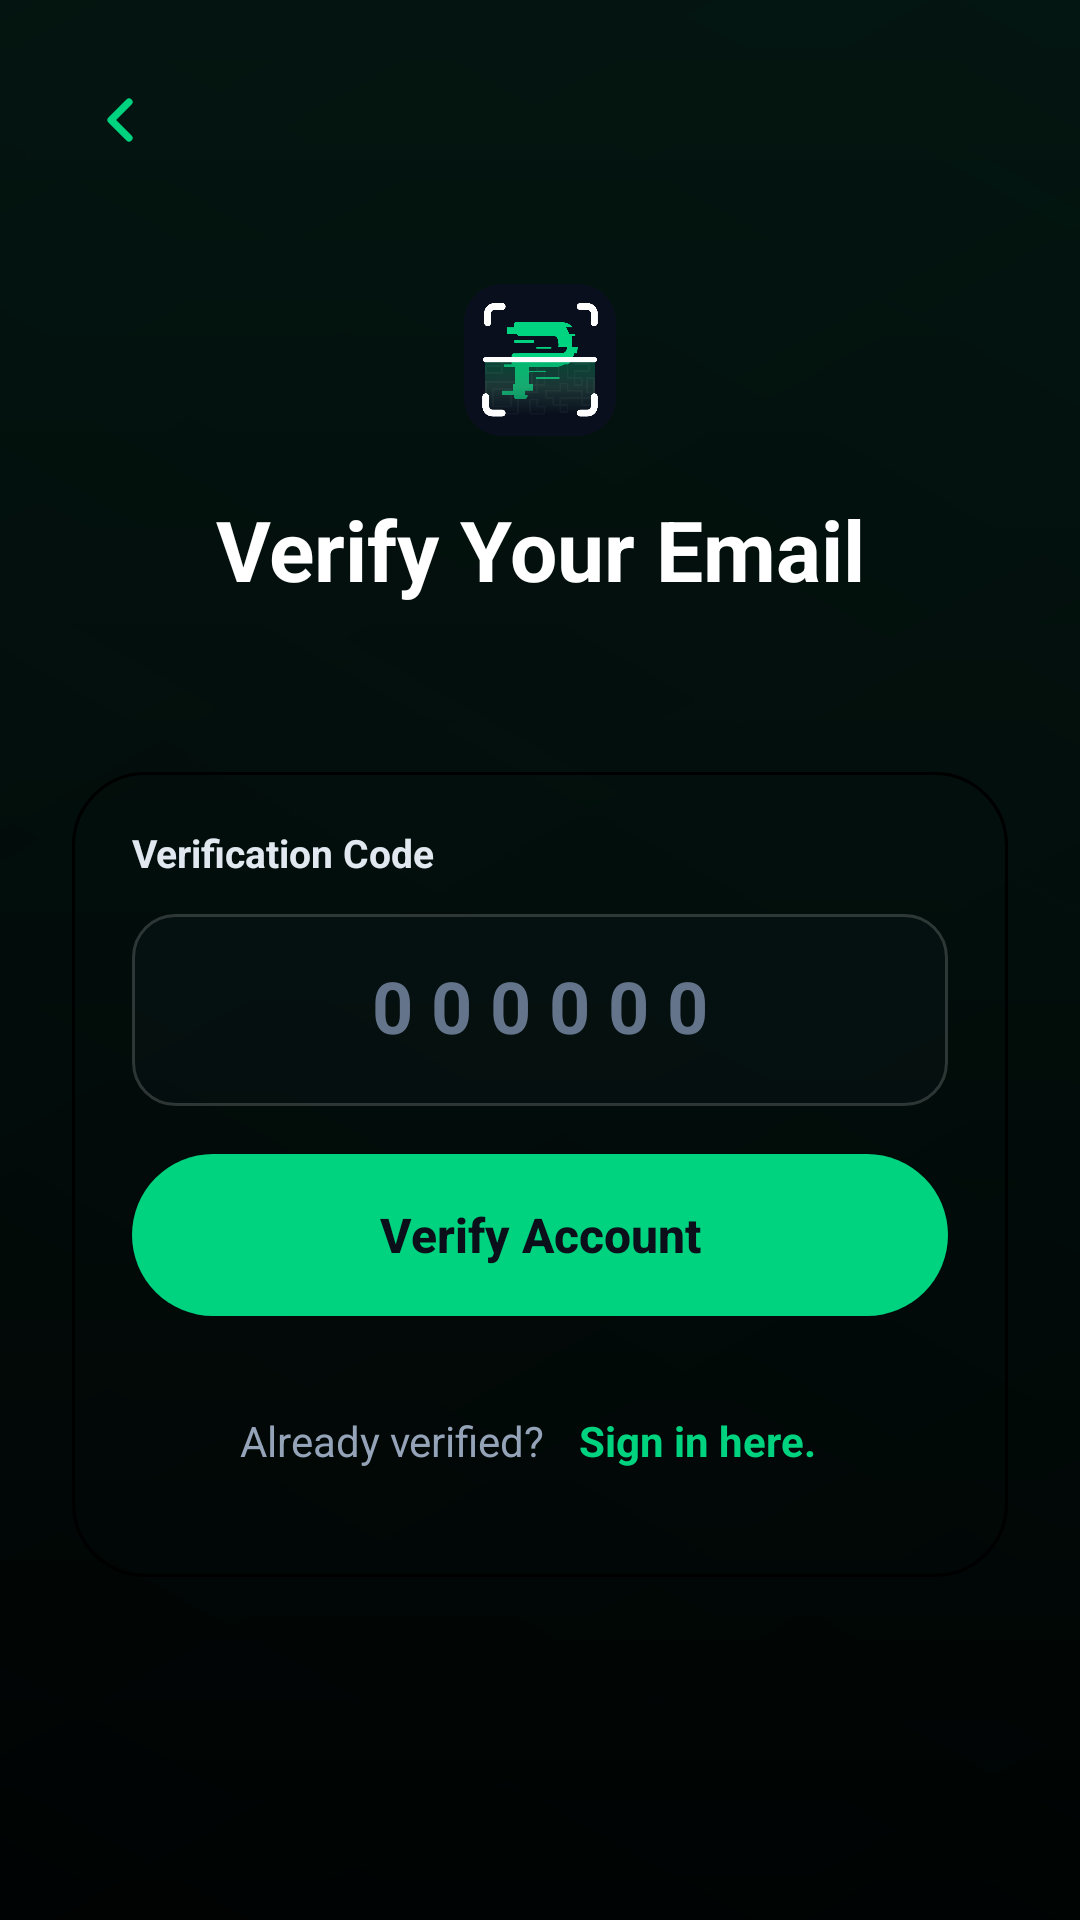

Icon bounding boxes for this 1080px×1920px phone screenshot, format (x1, y1, x2, y2):
arrow back: (107, 98, 133, 142)
